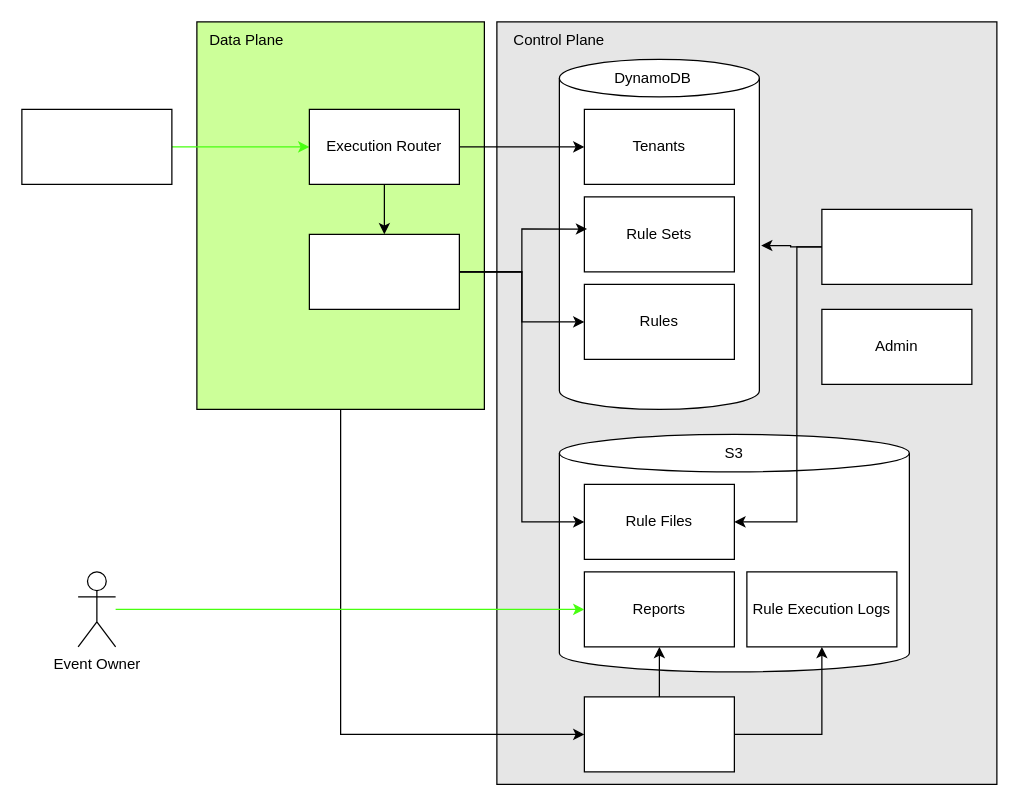
This 1019x806 diagram has some shape labels left out. The shapes that lost their labels are listed below. From the top down, each one's centre as x and y in pixels, then its label:
At (96,146): "Event Processor".
At (896,246): "Rule Management".
At (383,271): "Rule Executor".
At (658,734): "Observability".
